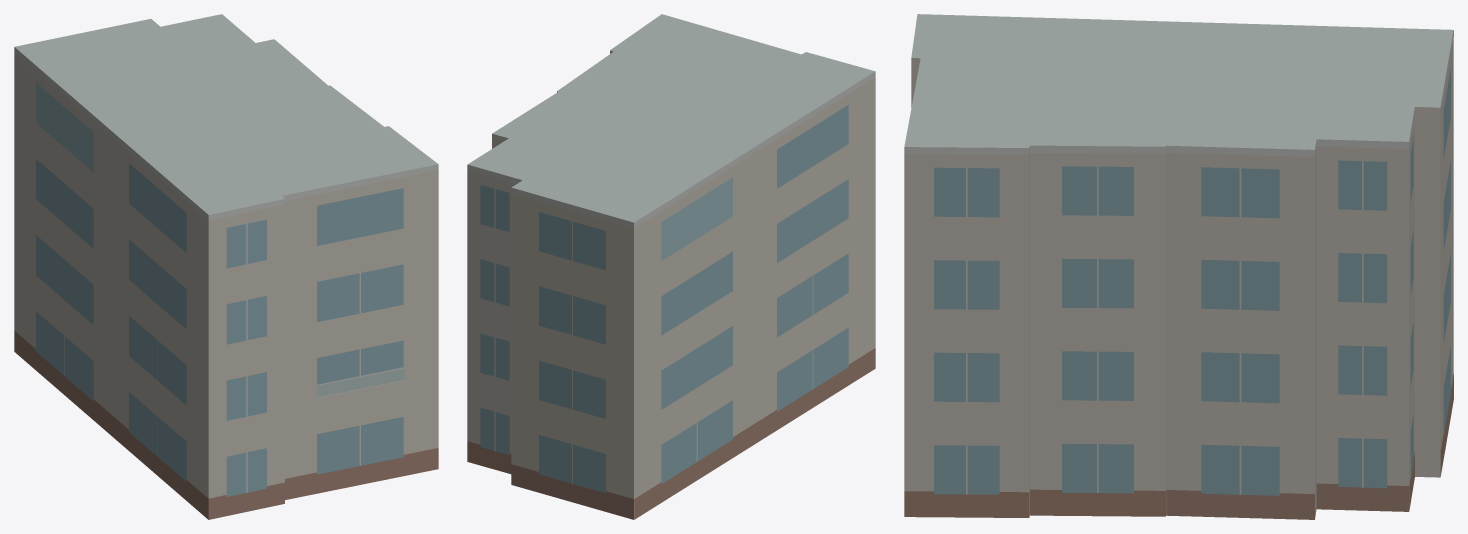
Rendered from survey-upis-32499558.glb.
3 views of the same model, side by side, from view 1: azimuth 30°, elevation 25°; view 2: azimuth 150°, elevation 25°; view 3: azimuth 270°, elevation 25° (orthographic). The views are drawn at different scales.
Parts seen in each view (by area): view 1: survey-upis-32499558.tmp; view 2: survey-upis-32499558.tmp; view 3: survey-upis-32499558.tmp.
Boxes of the visible parts, x1,y1,x2,y2 form: survey-upis-32499558.tmp: (14, 14, 438, 519); survey-upis-32499558.tmp: (467, 14, 875, 519); survey-upis-32499558.tmp: (904, 14, 1453, 519).
Bounding box in the file's own units: 10.08 × 12.78 × 17.21.
